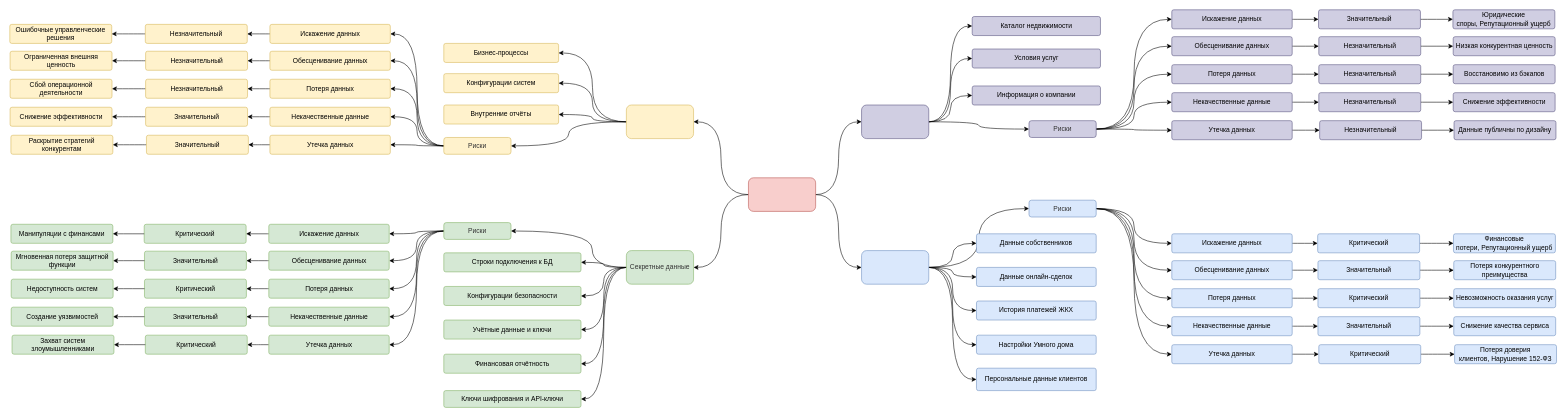
Image size: 1566x417. Some labels were removed from this diagram. The shapes that lost their labels are listed below. From the top down, each one's centre as x and y in pixels, then its label:
pixel 660 121: Внутренние данные
pixel 895 121: Публичные данные
pixel 782 194: Безопасность данных
pixel 895 267: Конфиденциальные данные
